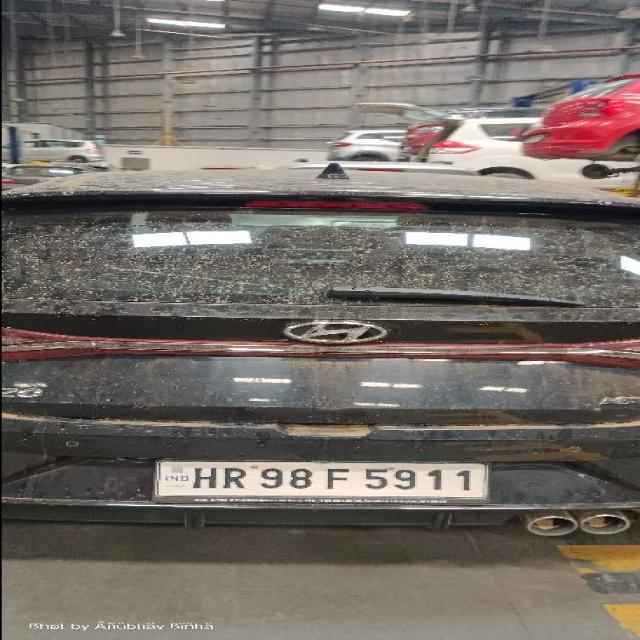license_plate: (148, 458, 490, 504)
